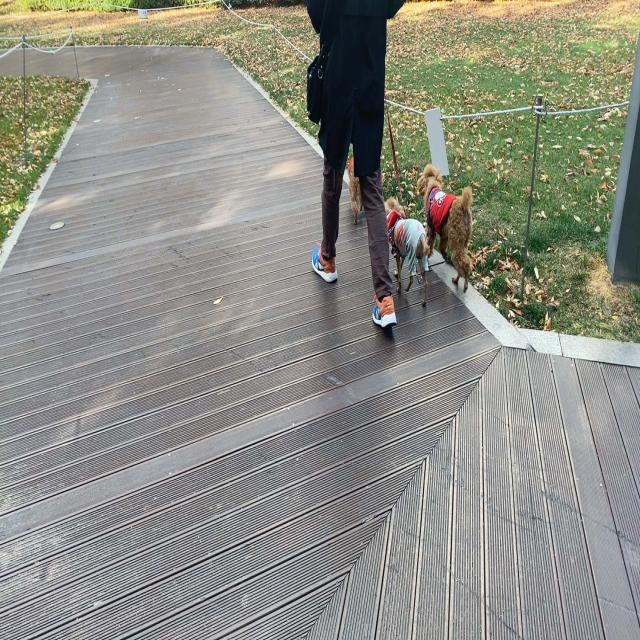Leashed_Dog: (364, 12, 474, 294), (364, 13, 430, 308), (349, 17, 378, 228)
